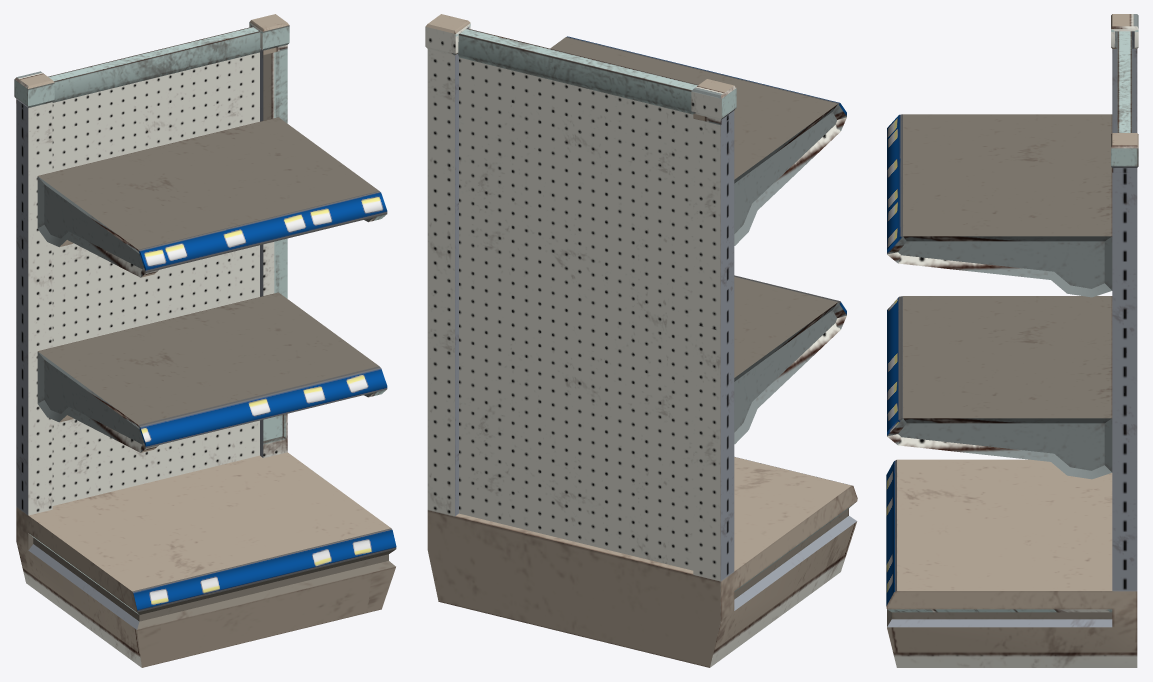
File: Shelf_2.fbx
3 views of the same model, side by side, from view 1: azimuth 30°, elevation 25°; view 2: azimuth 150°, elevation 25°; view 3: azimuth 270°, elevation 25° (orthographic). The views are drawn at different scales.
Parts seen in each view (by area): view 1: Shelf_2.001; view 2: Shelf_2.001; view 3: Shelf_2.001.
Boxes of the visible parts, x1,y1,x2,y2 form: Shelf_2.001: (14, 14, 396, 667); Shelf_2.001: (425, 14, 857, 667); Shelf_2.001: (886, 14, 1138, 667).
Bounding box in the file's own units: 0.964 × 1.79 × 0.7754.
